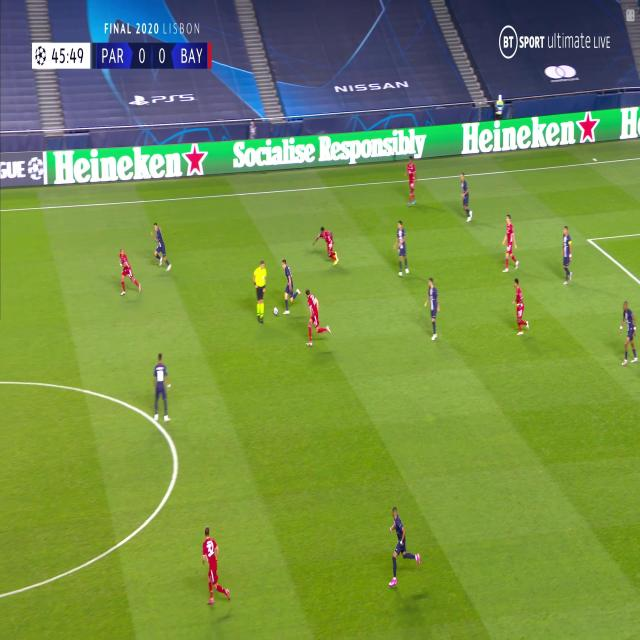player: (388, 505, 421, 594), (199, 527, 233, 604), (616, 298, 640, 368), (304, 288, 331, 346), (152, 354, 172, 428), (510, 277, 530, 338), (119, 248, 142, 300), (281, 259, 302, 315), (150, 224, 172, 272), (312, 226, 338, 266), (500, 215, 518, 272), (424, 279, 440, 343), (252, 260, 267, 327), (402, 155, 420, 207), (560, 226, 572, 287), (396, 220, 408, 279), (460, 173, 472, 223)
